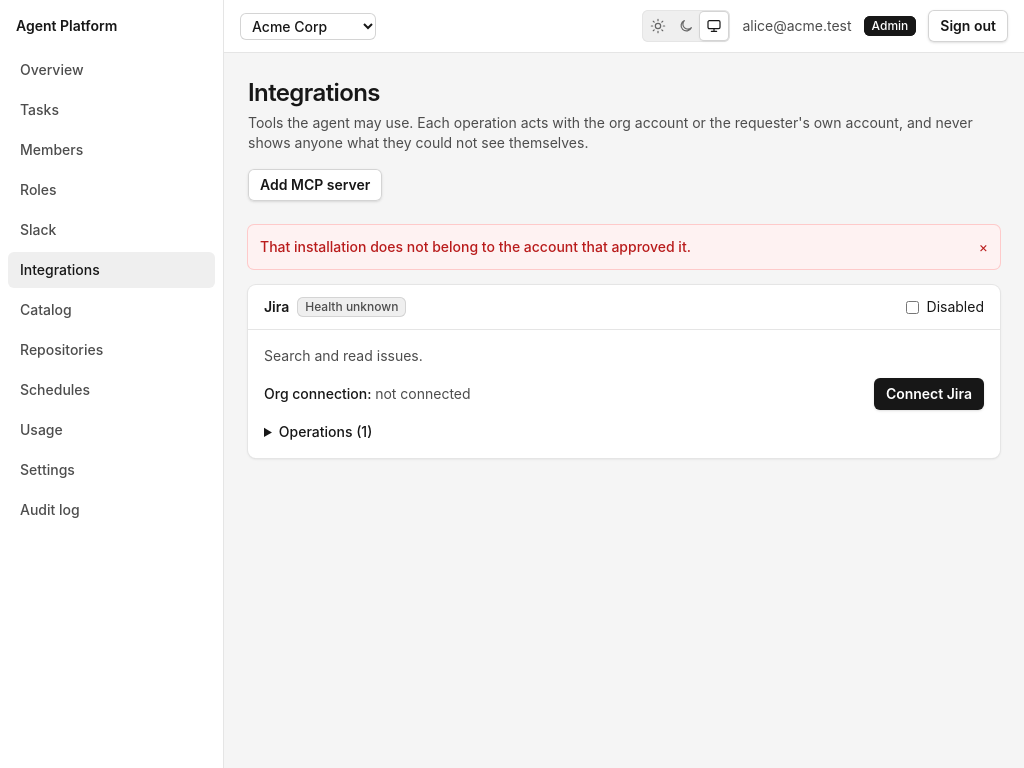
Test: Integrations page › shows why a connect failed and dismisses it
The width and height of the screenshot is (1024, 768).
Expected: the text "That installation does not belong to the account that approved it." is shown, [260,237,691,257]
Click the button named "Dismiss" at (983, 247), box [979,237,988,257]
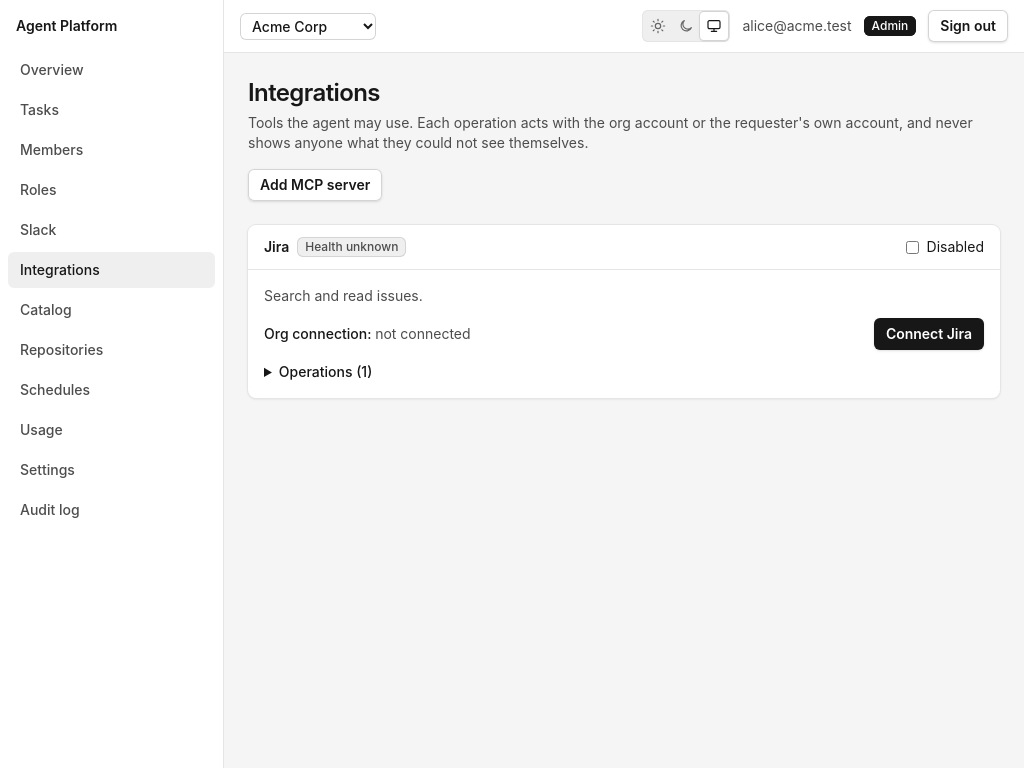
Expected: the message "That installation does not belong to the account that approved it. ×" is gone
